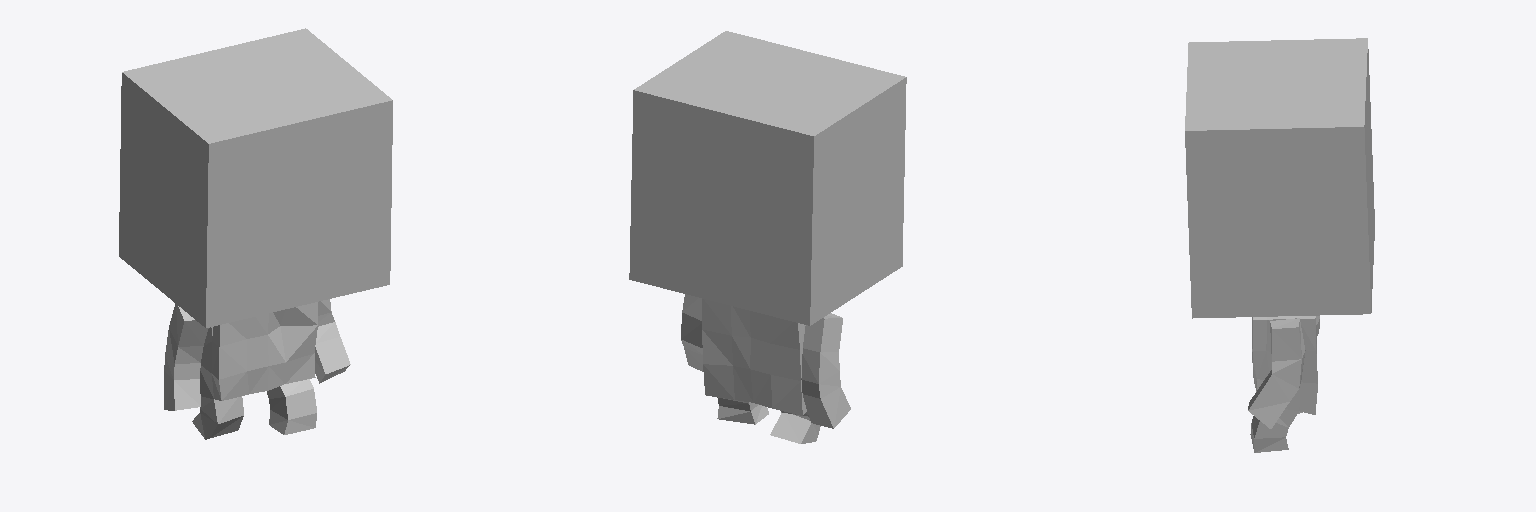
The model's file is boxman-animation-hodba_000005.obj.
3 views of the same model, side by side, from view 1: azimuth 30°, elevation 25°; view 2: azimuth 150°, elevation 25°; view 3: azimuth 270°, elevation 25° (orthographic).
Visible parts, largest first — view 1: Cube; view 2: Cube; view 3: Cube.
Part boxes in pixels (x1,y1,x2,y2): Cube: (119, 28, 392, 439); Cube: (629, 31, 906, 443); Cube: (1185, 38, 1374, 452).
Size of the model in its own units: 2.08 by 3.72 by 1.84.